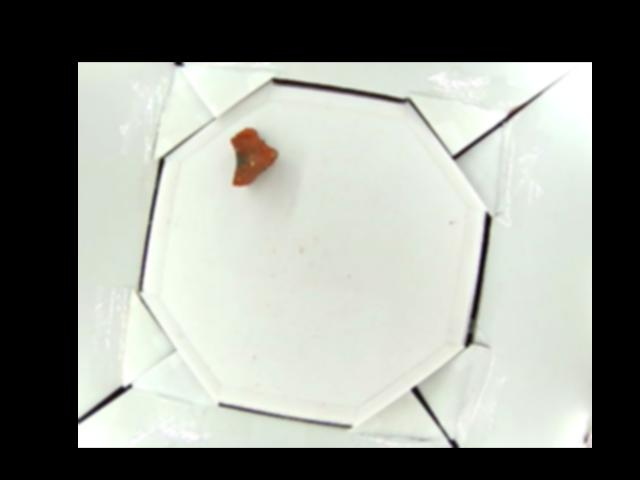Brisk: (231, 128, 278, 186)
